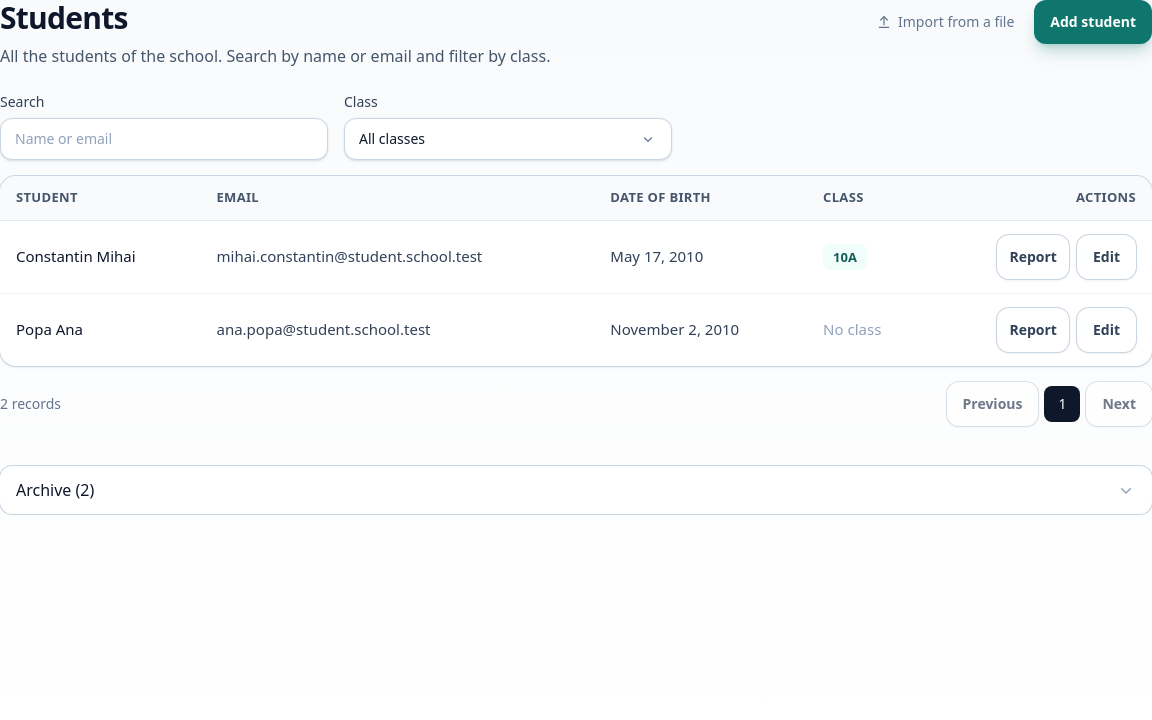
Test: AdminStudentsPage › edits a student and moves them out of the class
Click the button "Edit" in the row of "Constantin Mihai" at (1106, 256), box x1=1077 y1=234 x2=1136 y2=278
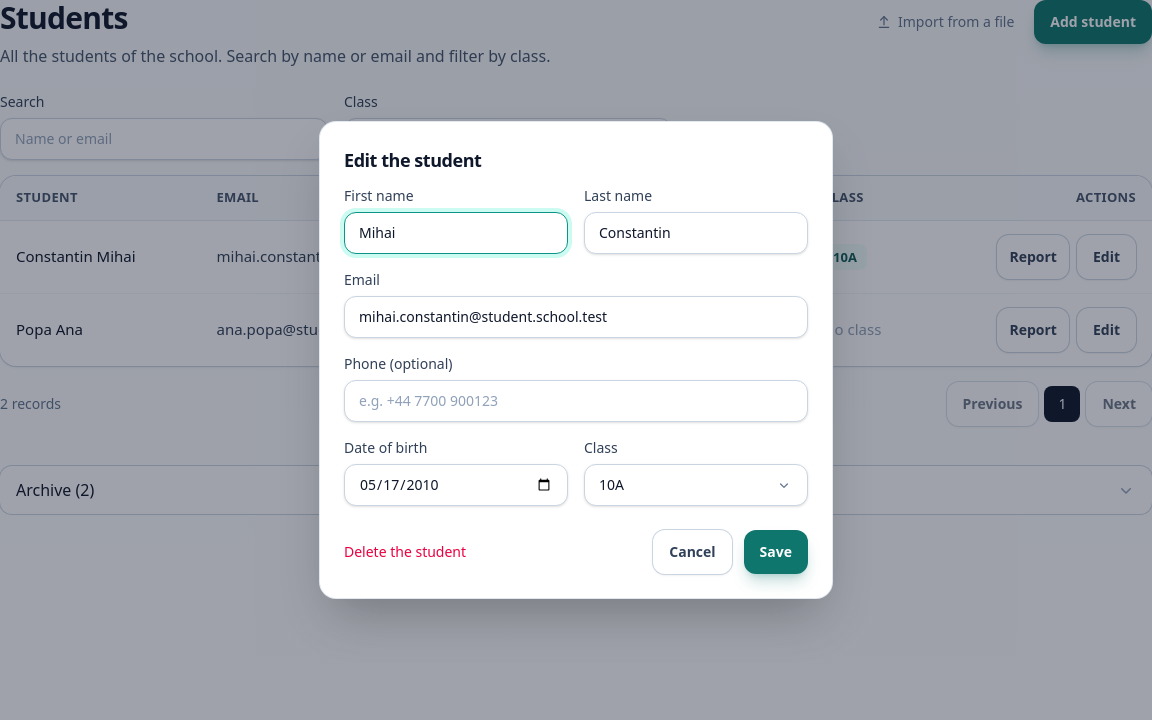
Result: the field labelled "First name" holds "Mihai" at x1=344 y1=212 x2=568 y2=254
Result: the dropdown labelled "Class" shows "10A"
Select "Without a class" in the dropdown labelled "Class" at (696, 485), box x1=584 y1=464 x2=808 y2=506
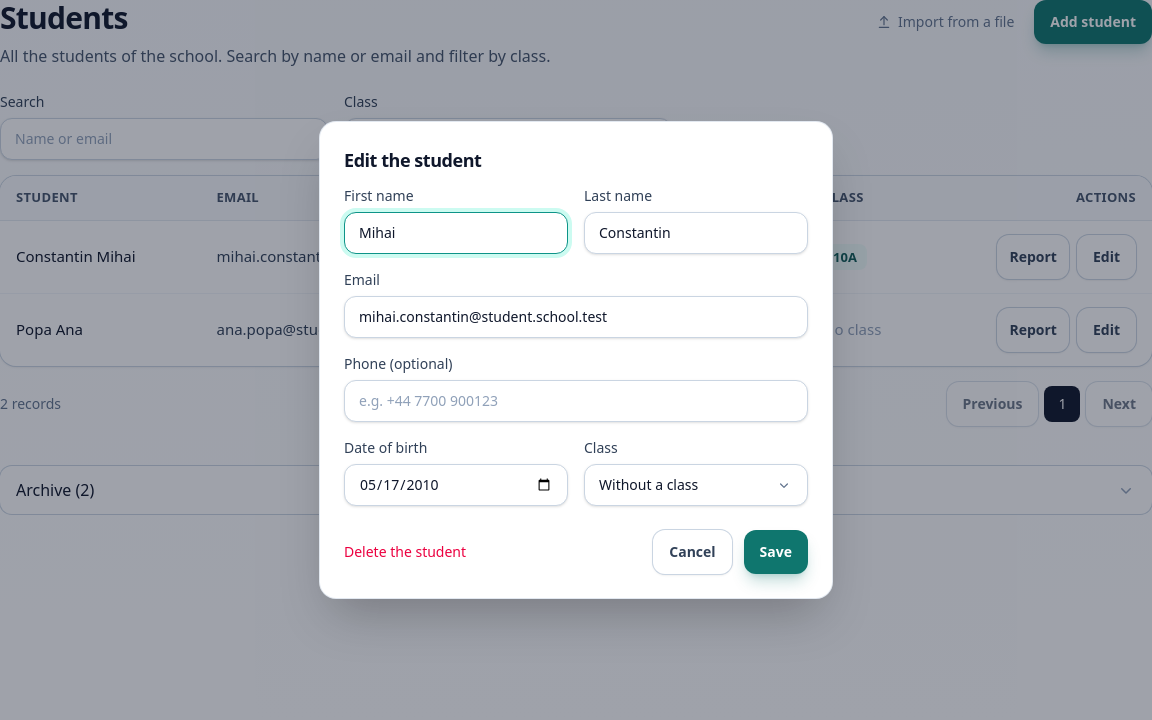
Click the button "Save" at (776, 552), box x1=744 y1=530 x2=808 y2=574
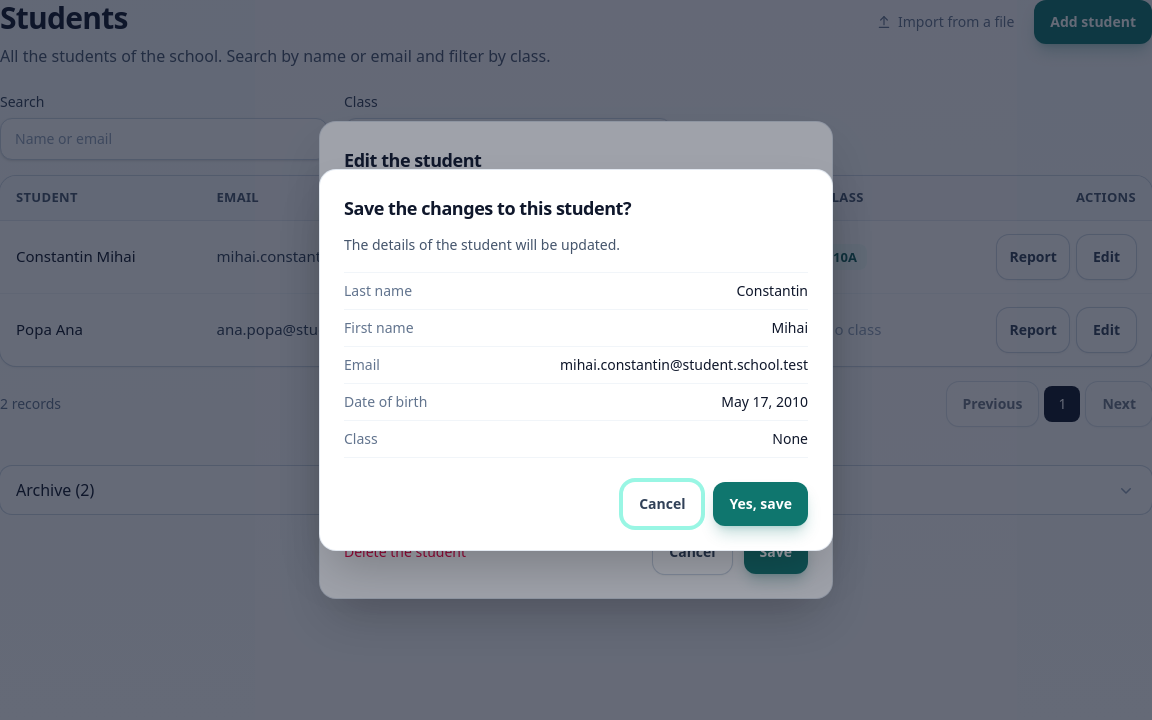
Click the button "Yes, save" at (761, 504), box x1=713 y1=482 x2=808 y2=526
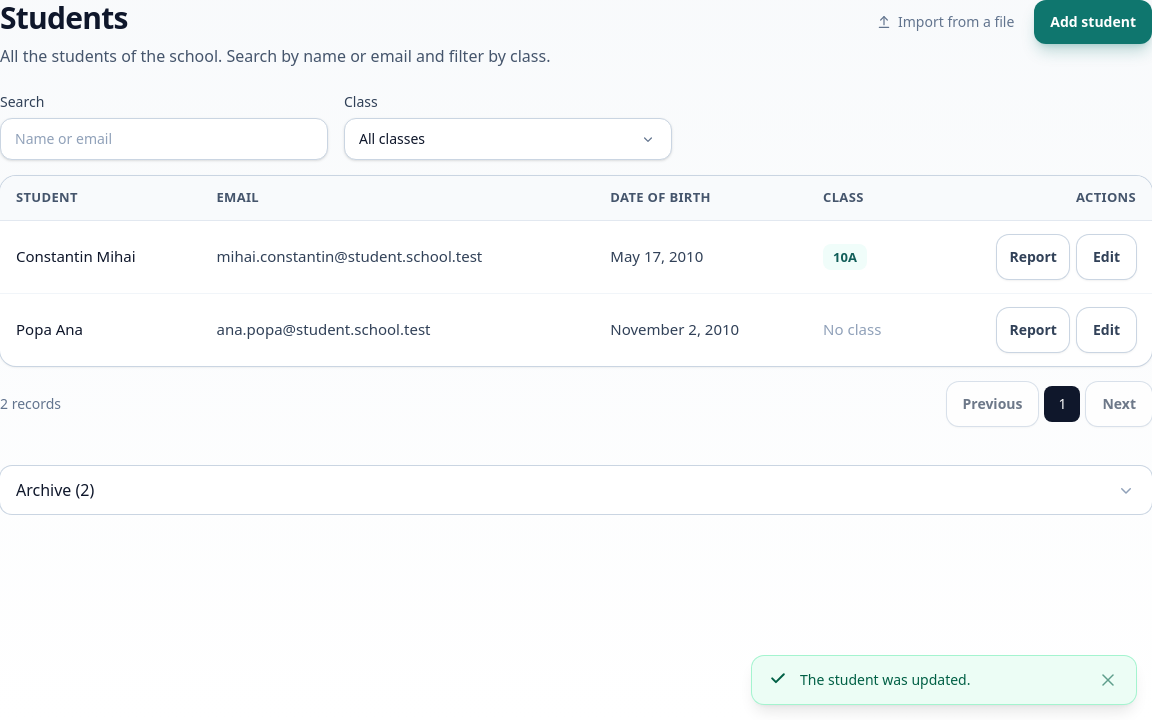
Result: the text "The student was updated." is shown at x1=800 y1=670 x2=970 y2=689
